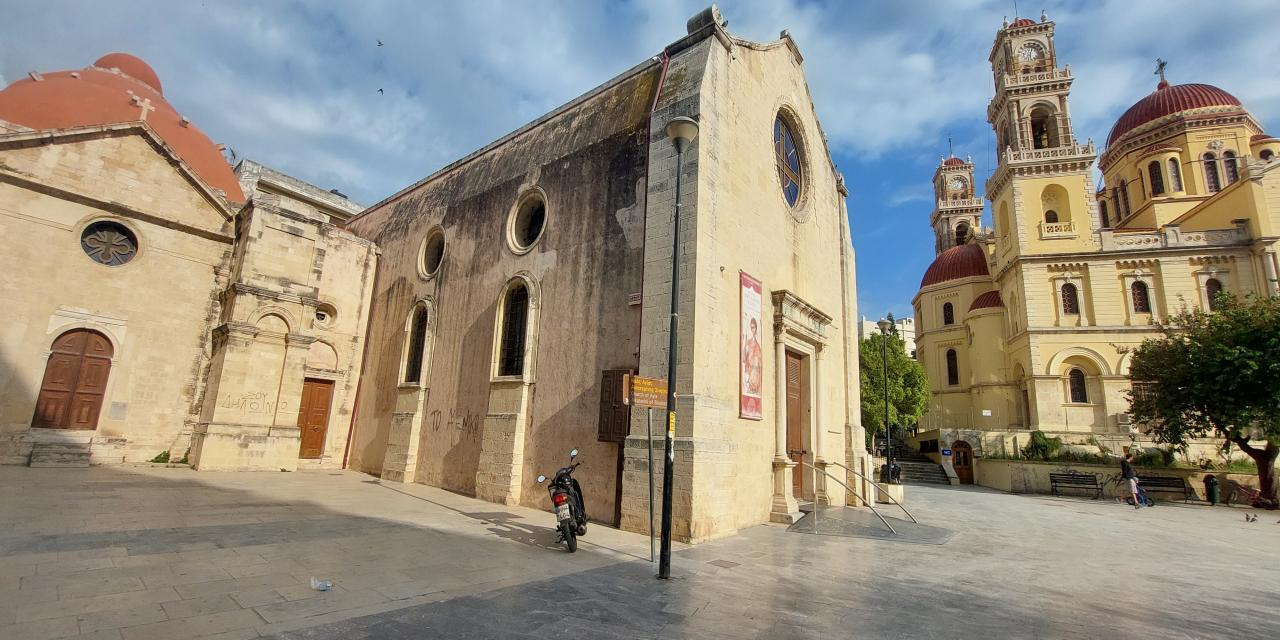Agia Aikaterini: (3, 2, 871, 552)
